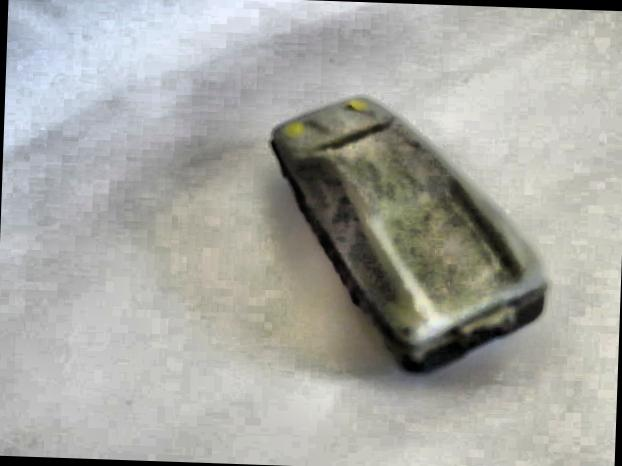normal_car: (248, 78, 570, 385)
